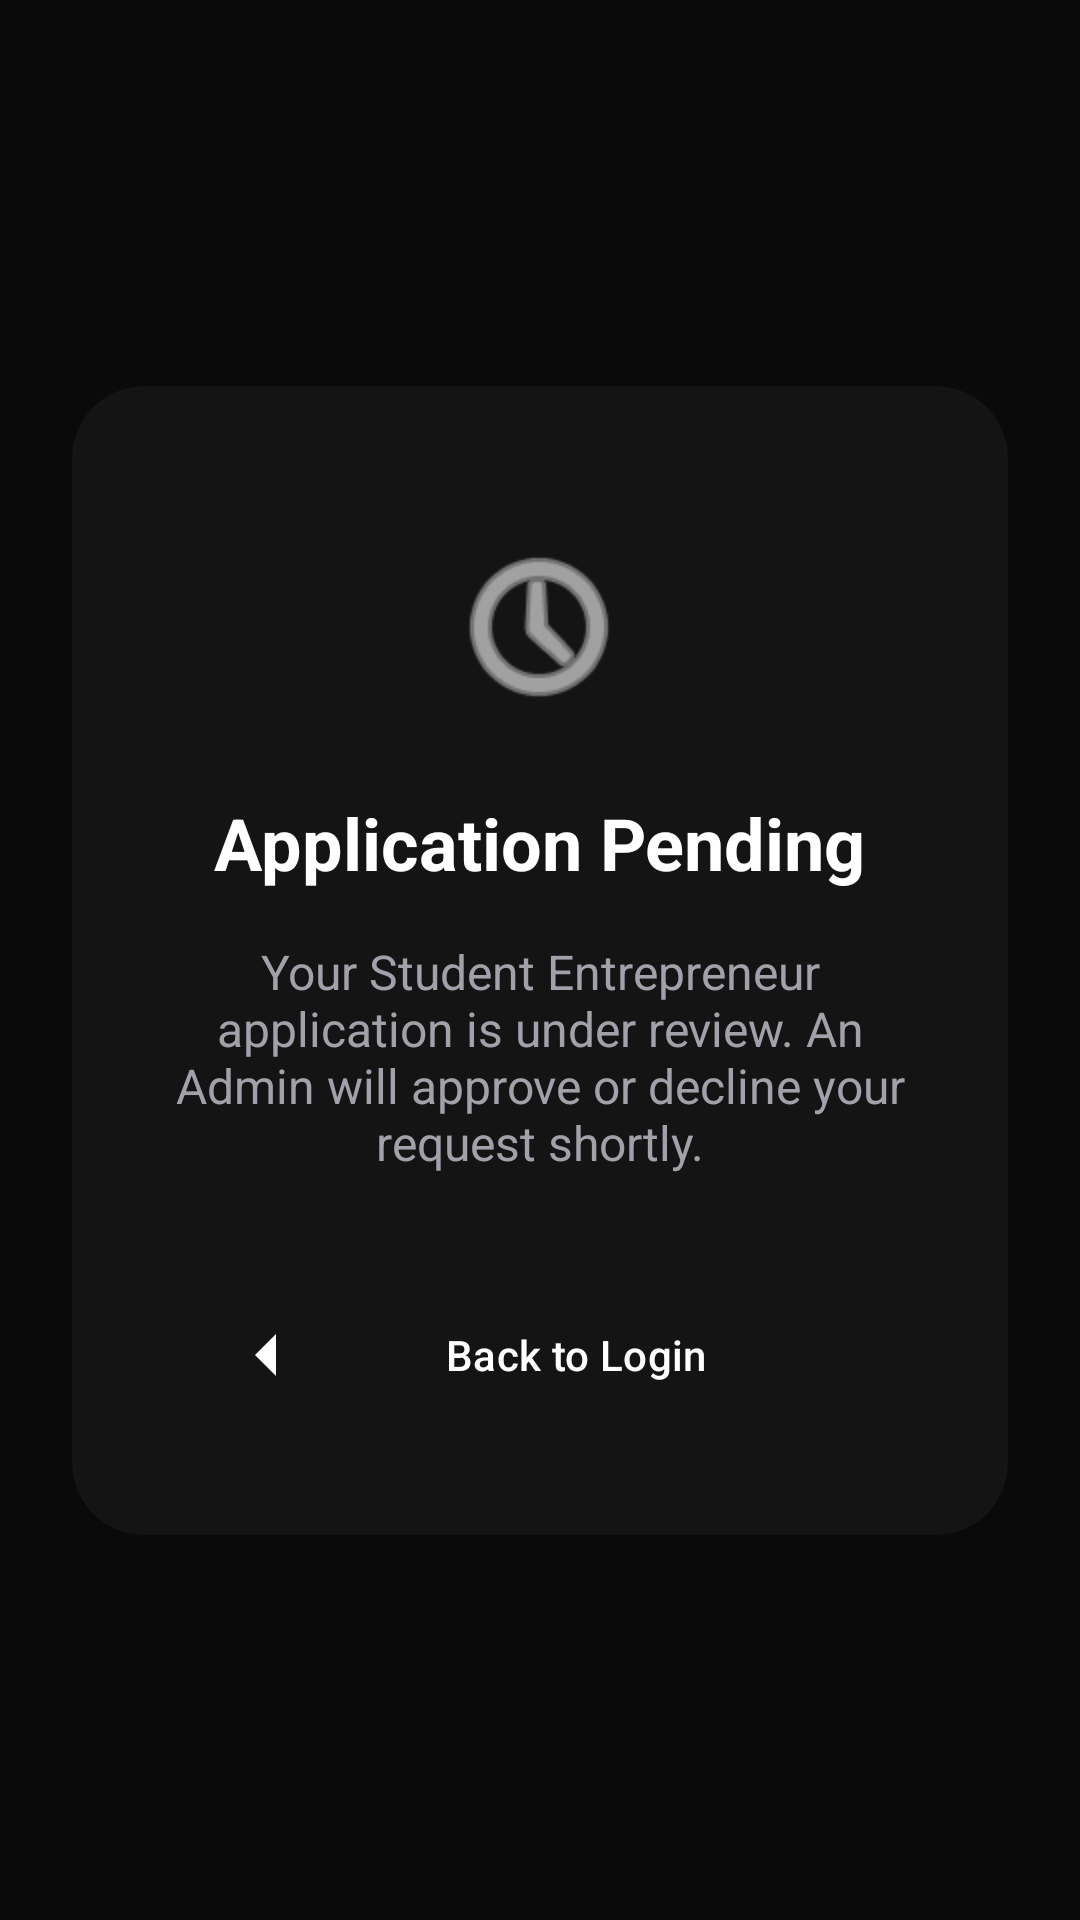

Icon click points for this 1080×1920 phone screenshot, format [x,y]:
recent history: [539,627]
